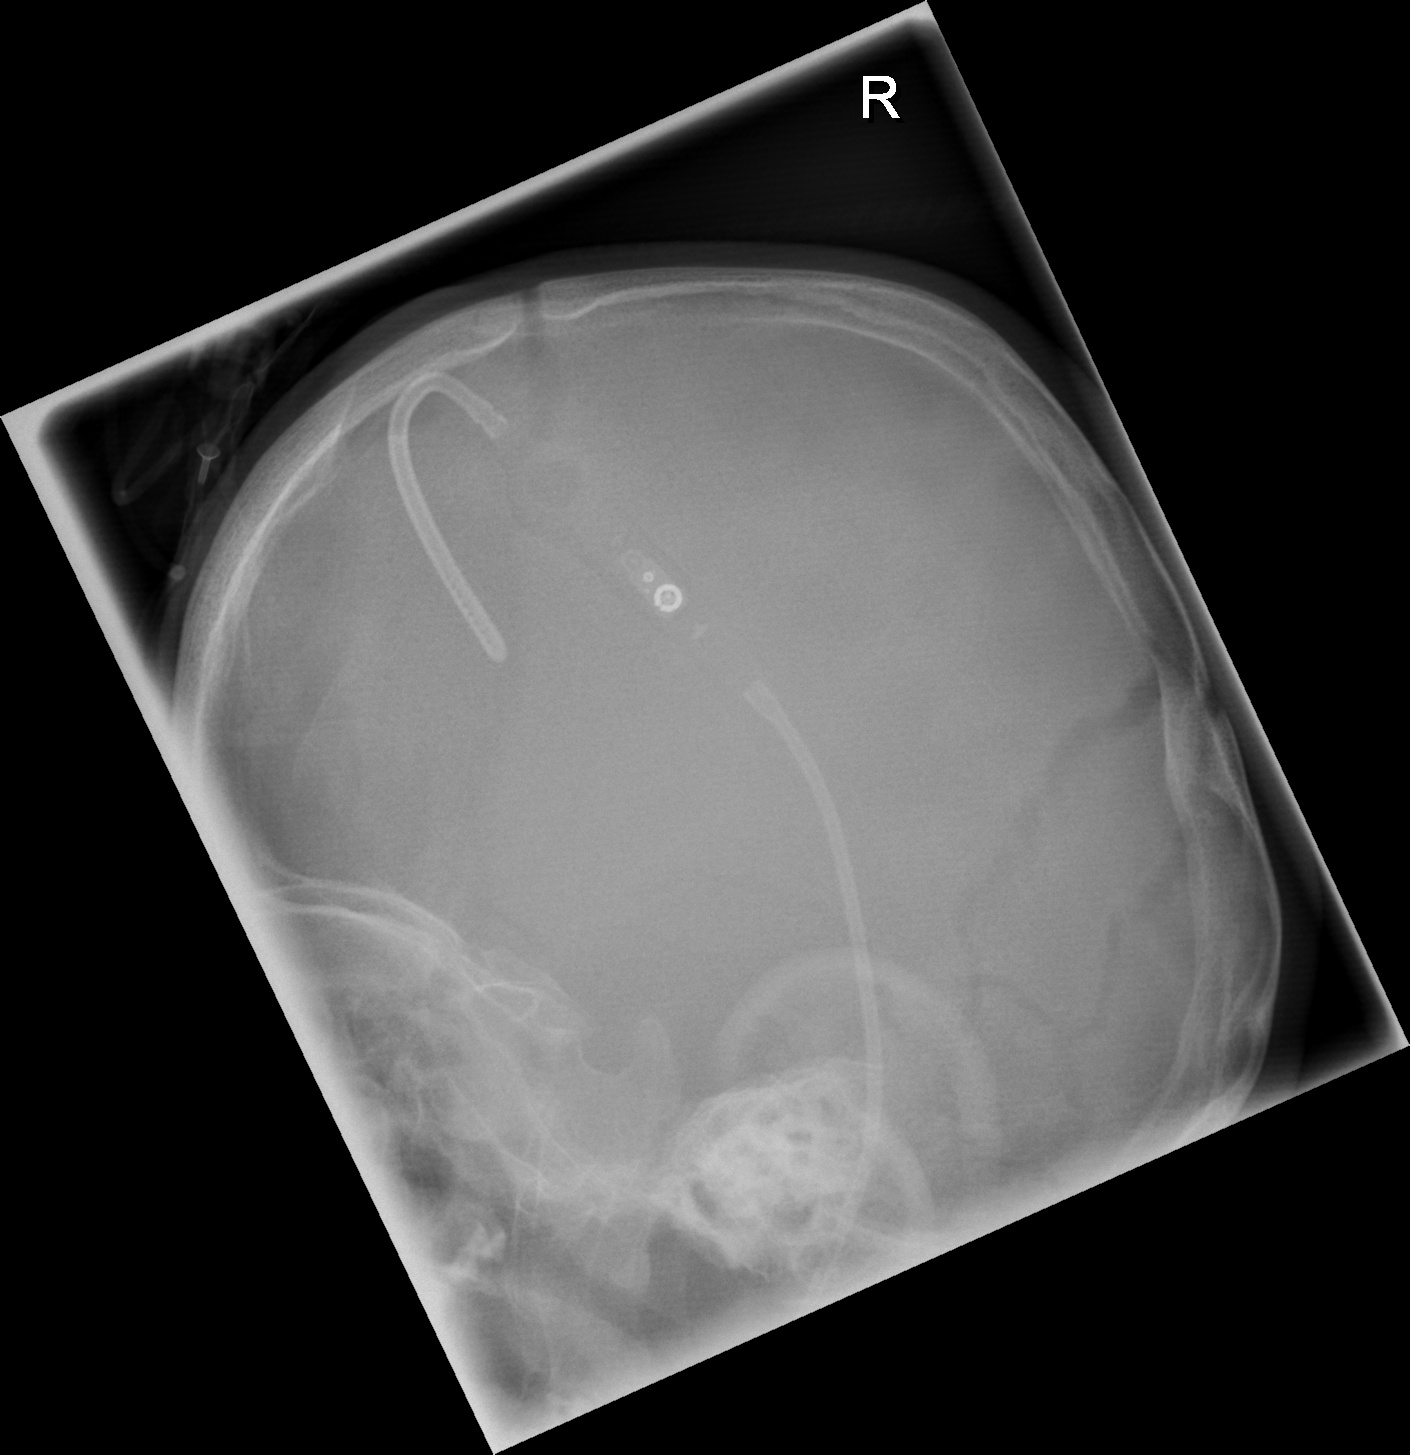Codman Hakim: (634, 563, 691, 625)
